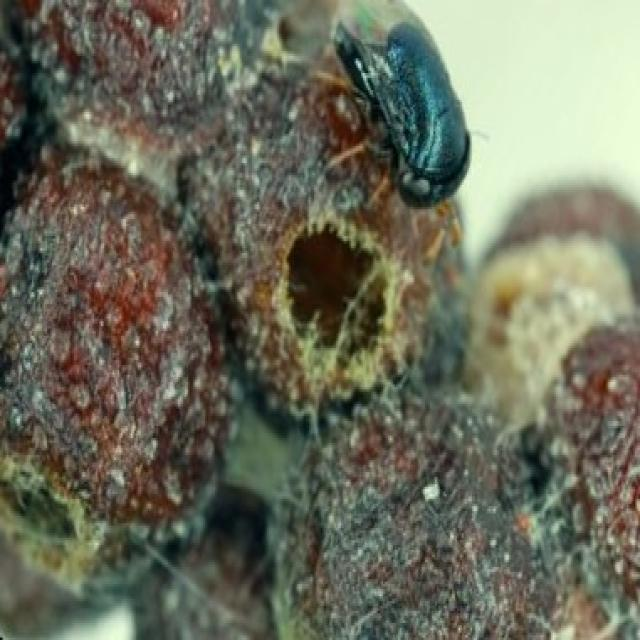Black Scale: (0, 146, 225, 567), (217, 75, 447, 397), (271, 390, 565, 638), (548, 336, 638, 589)
